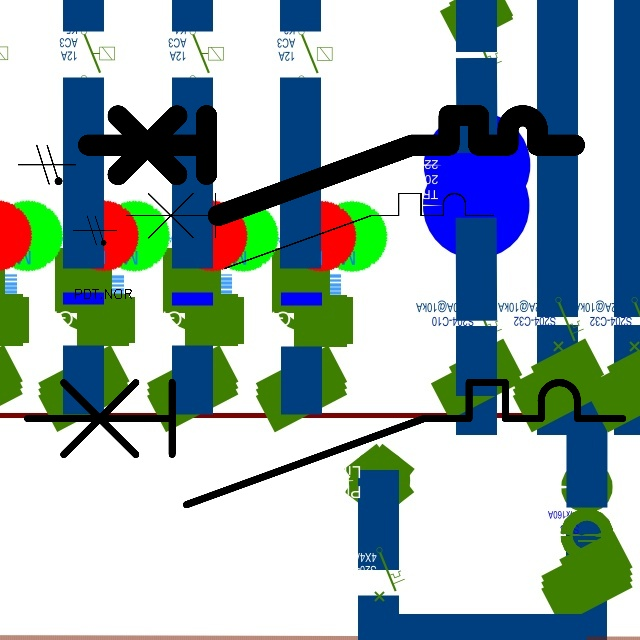interruptor_termomagnetico: (12, 367, 638, 520), (75, 103, 587, 228), (116, 184, 502, 278)
